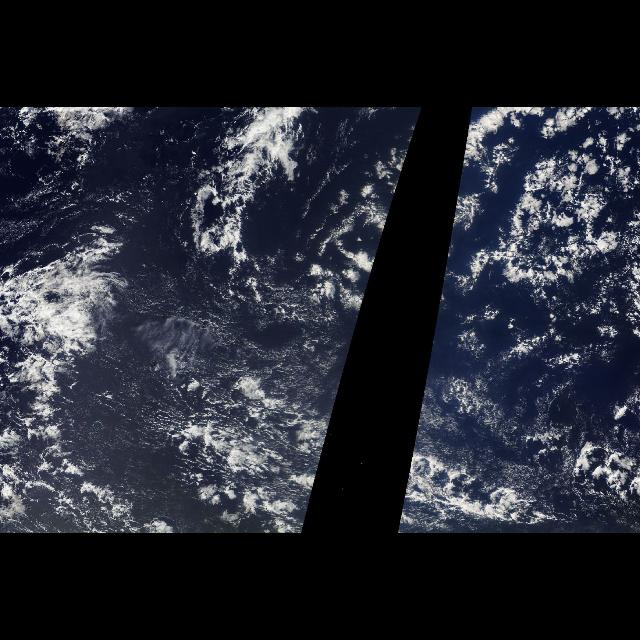Sugar: (113, 254, 294, 392)
